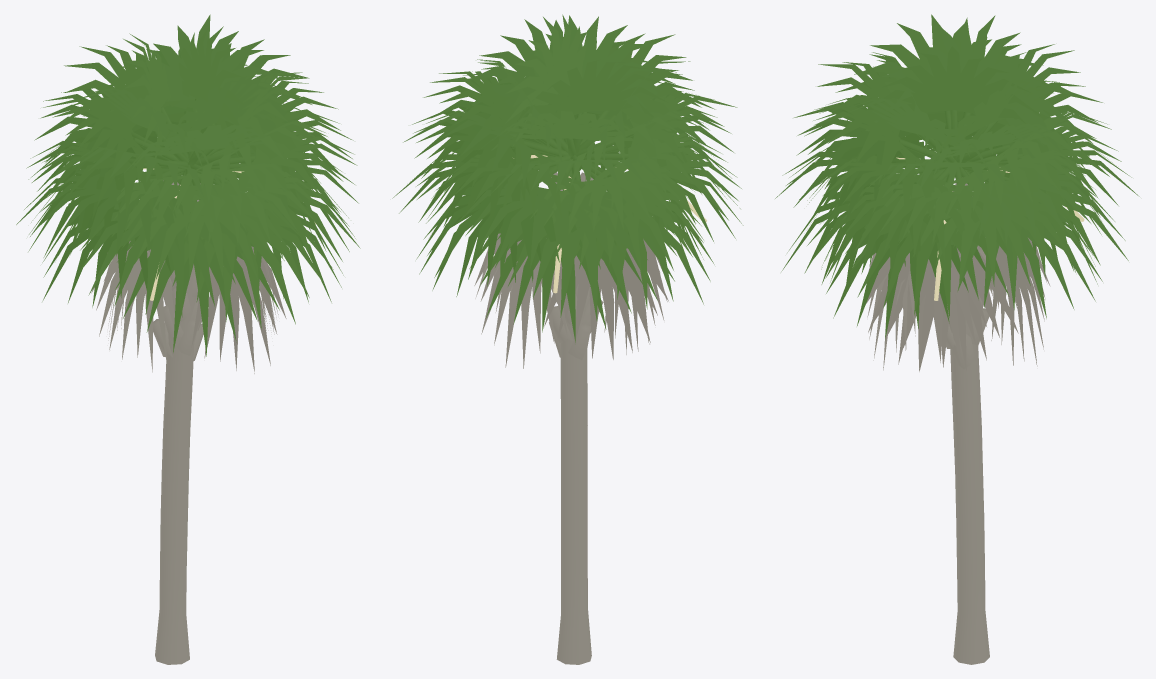
Rendered from Blender_CabbagePalm_1.glb.
3 renders of one model, left to right at view 1: azimuth 30°, elevation 25°; view 2: azimuth 150°, elevation 25°; view 3: azimuth 270°, elevation 25°, orthographic.
Visible parts, largest first — view 1: Blender_CabbagePalm_1; view 2: Blender_CabbagePalm_1; view 3: Blender_CabbagePalm_1.
Boxes of the visible parts, <box> form: Blender_CabbagePalm_1: <box>16,14,360,664</box>; Blender_CabbagePalm_1: <box>392,14,743,664</box>; Blender_CabbagePalm_1: <box>775,14,1139,664</box>.
Size of the model in its own units: 8.04 by 15.28 by 8.08.
